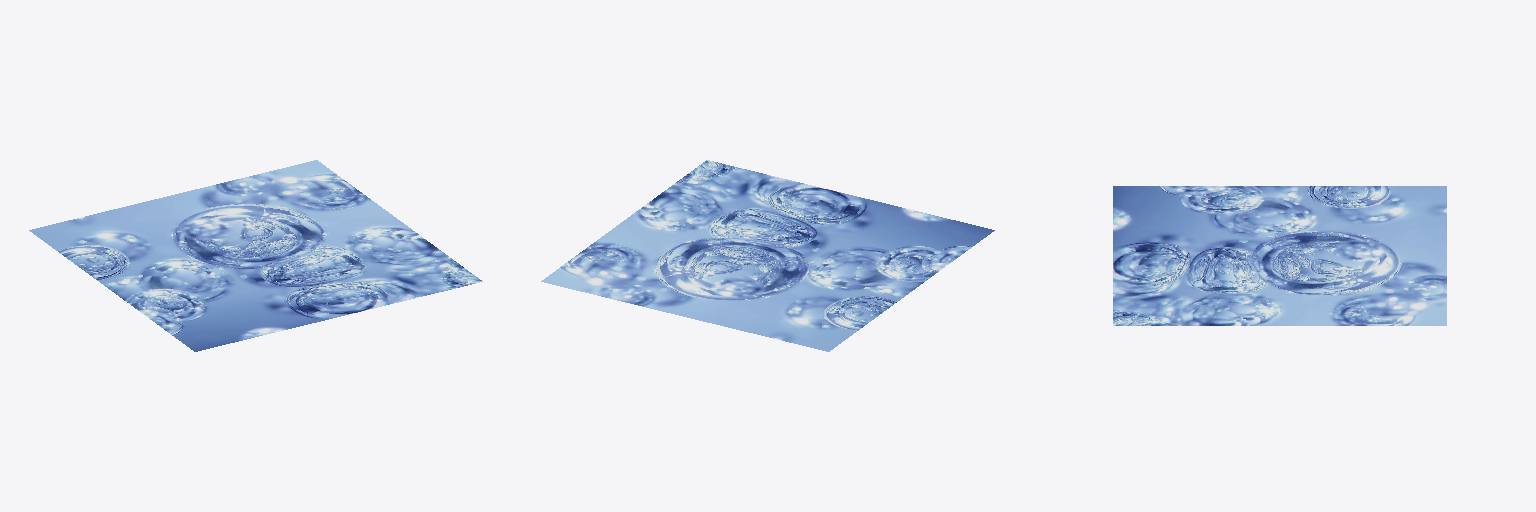
3 views of the same model, side by side, from view 1: azimuth 30°, elevation 25°; view 2: azimuth 150°, elevation 25°; view 3: azimuth 270°, elevation 25° (orthographic).
Visible parts, largest first — view 1: Plane; view 2: Plane; view 3: Plane.
Part boxes in pixels (x1,y1,x2,y2): Plane: (29,160,482,351); Plane: (541,160,994,351); Plane: (1113,186,1446,325).
Size of the model in its own units: 25.78 by 0 by 25.78.
1 materials, 1 textured.